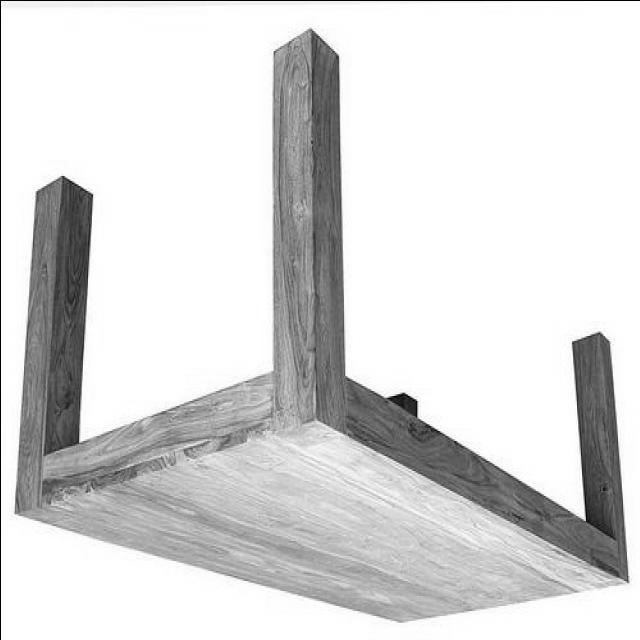table: (14, 32, 632, 628)
